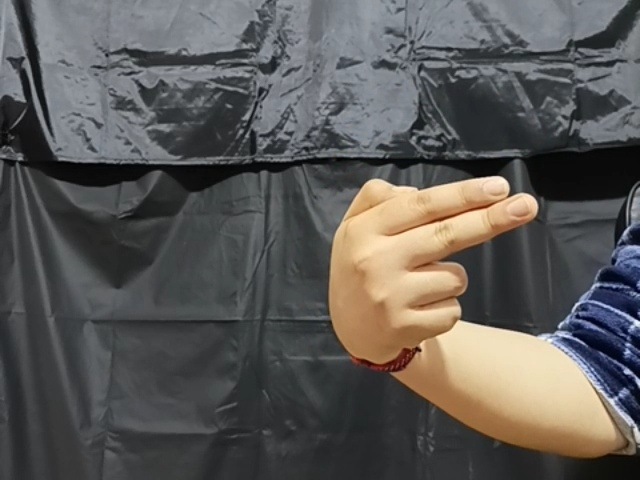H: (324, 168, 543, 361)
